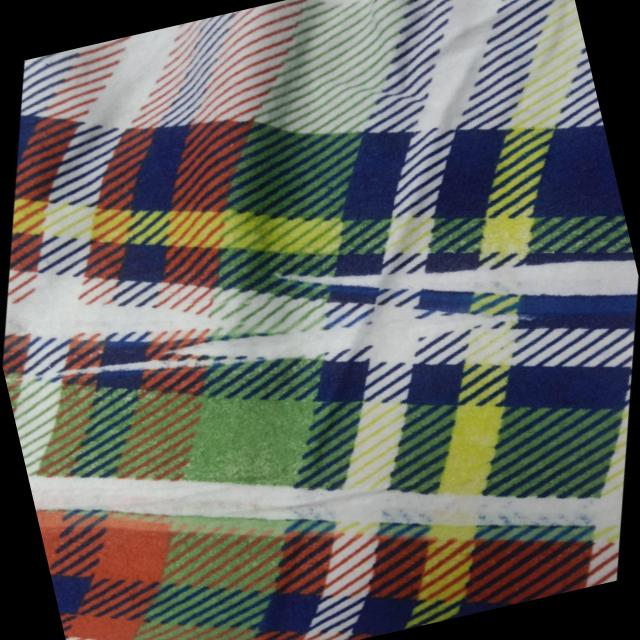selvet: (43, 226, 547, 466), (256, 185, 640, 376), (0, 244, 260, 393)
